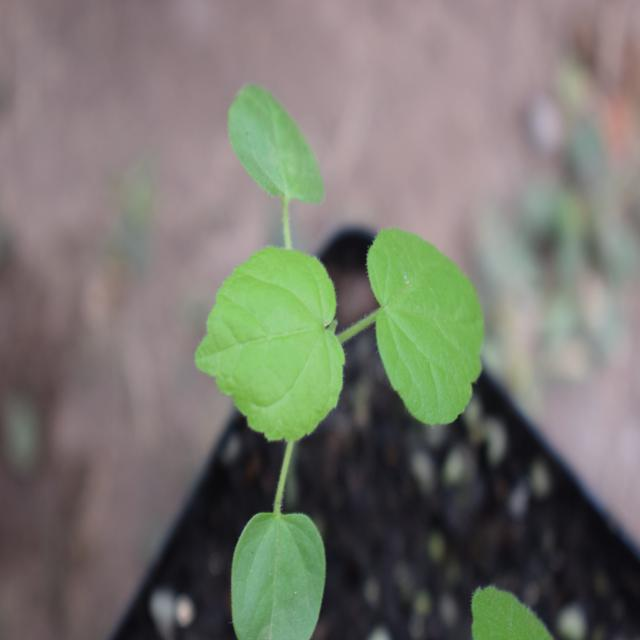abutilon theophrasti: (168, 95, 480, 606)
